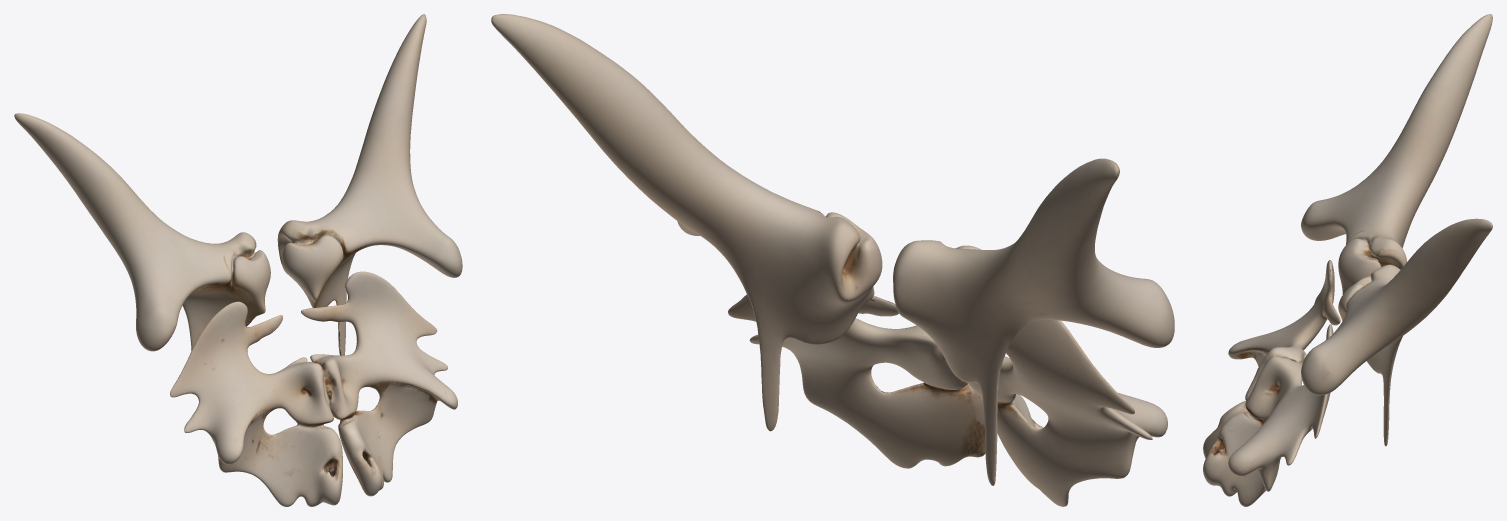
The model's file is dog-spine-thoracic.glb.
3 views of the same model, side by side, from view 1: azimuth 30°, elevation 25°; view 2: azimuth 150°, elevation 25°; view 3: azimuth 270°, elevation 25° (orthographic). The views are drawn at different scales.
Parts seen in each view (by area): view 1: model; view 2: model; view 3: model.
Part boxes in pixels (x1=…): model: x1=14, y1=14, x2=462, y2=506; model: x1=491, y1=14, x2=1174, y2=506; model: x1=1203, y1=14, x2=1492, y2=506.
Size of the model in its own units: 1.9 by 1.53 by 1.11.
Materials: 1 (1 with a texture image).
